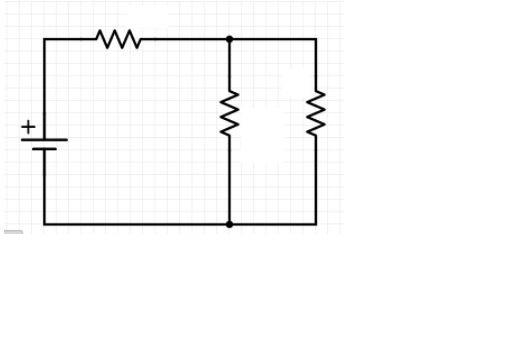resistor: (209, 70, 252, 147), (290, 73, 330, 151), (79, 16, 150, 57)
